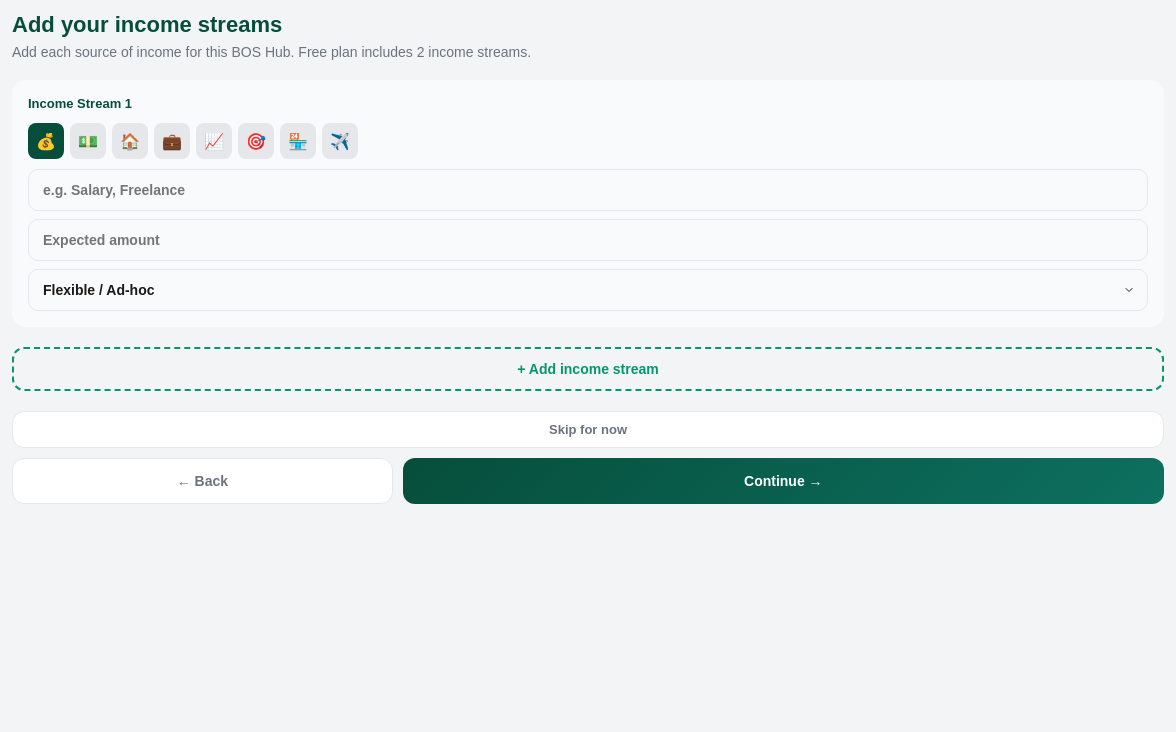
Test: StepIncome › shows validation error when submitting with empty label
Click the button "Continue →".
click(783, 481)  # box [403,458,1164,504]
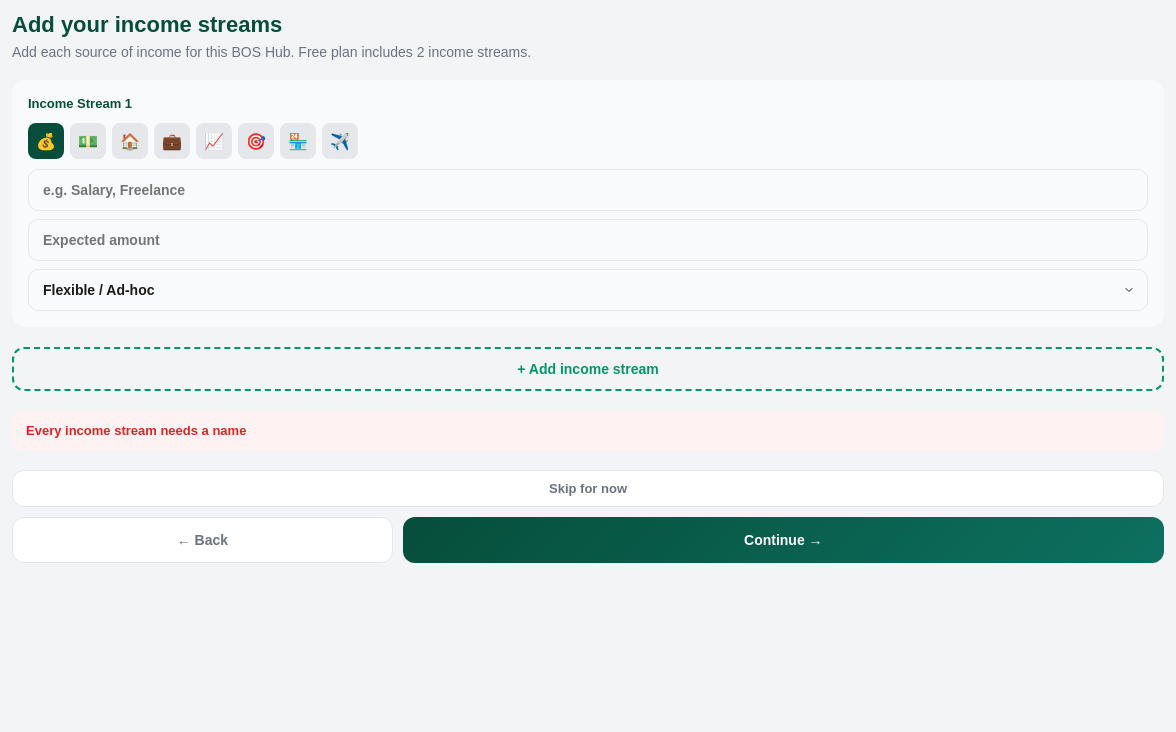
Result: the text "Every income stream needs a name" is shown at [26,423,246,438]
